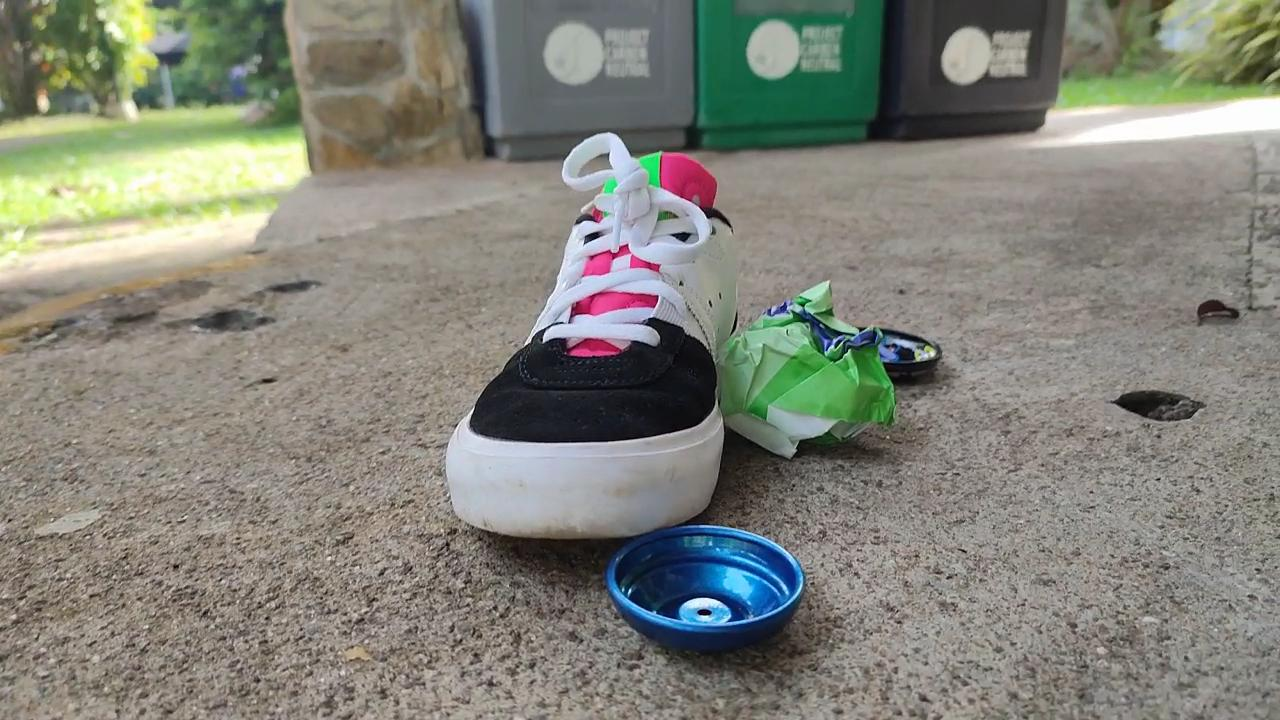Paper: (713, 268, 905, 470)
